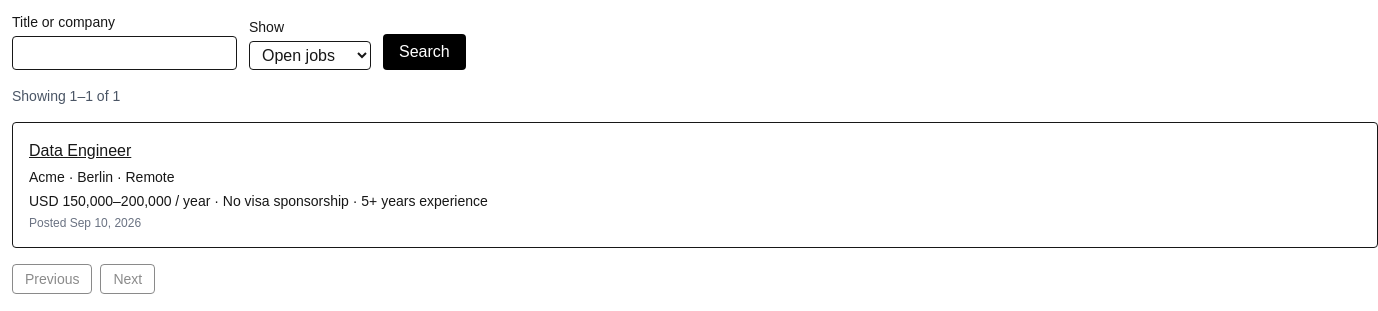
Scenario: JobsClient › marks closed jobs, and asks for closed jobs when that filter is chosen
The width and height of the screenshot is (1378, 311).
Check: the link "Data Engineer" is shown, box [29,139,131,163]
Check: the text "Closed" is not shown
Select "Closed jobs" in the dropdown labelled "Show" at (310,56), box [249,41,371,70]
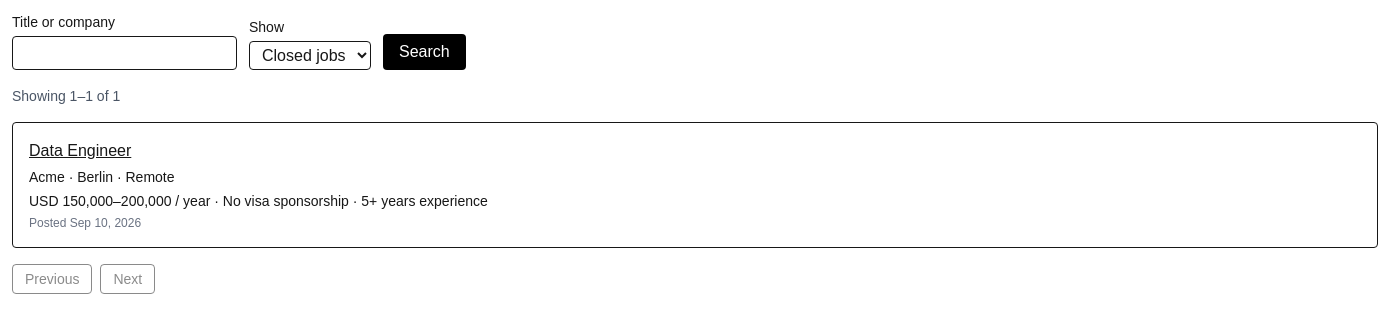
Click the button "Search" at (424,52), box [383,34,466,70]
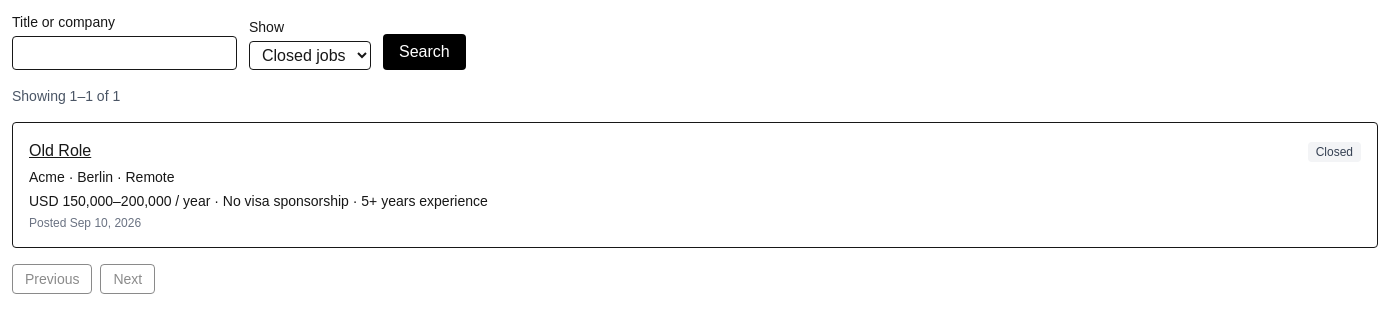
Check: the link "Old Role" is shown, box [29,139,91,163]
Check: the text "Closed" is shown, box [1308,142,1361,162]
